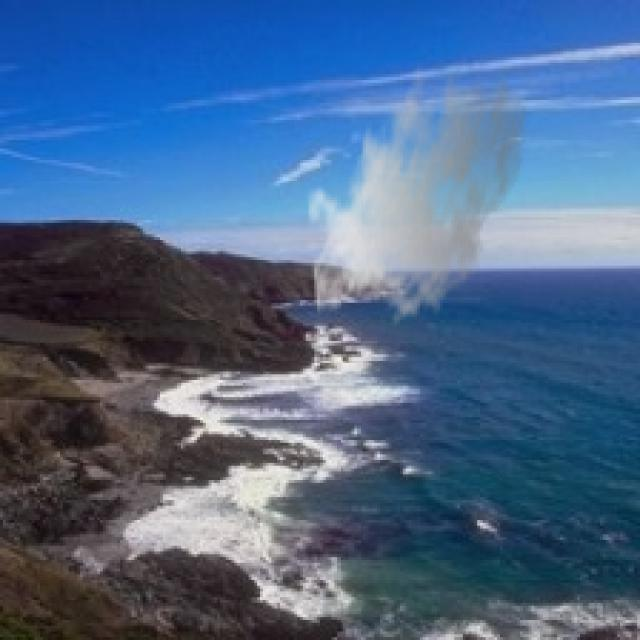smoke: (306, 52, 528, 328)
